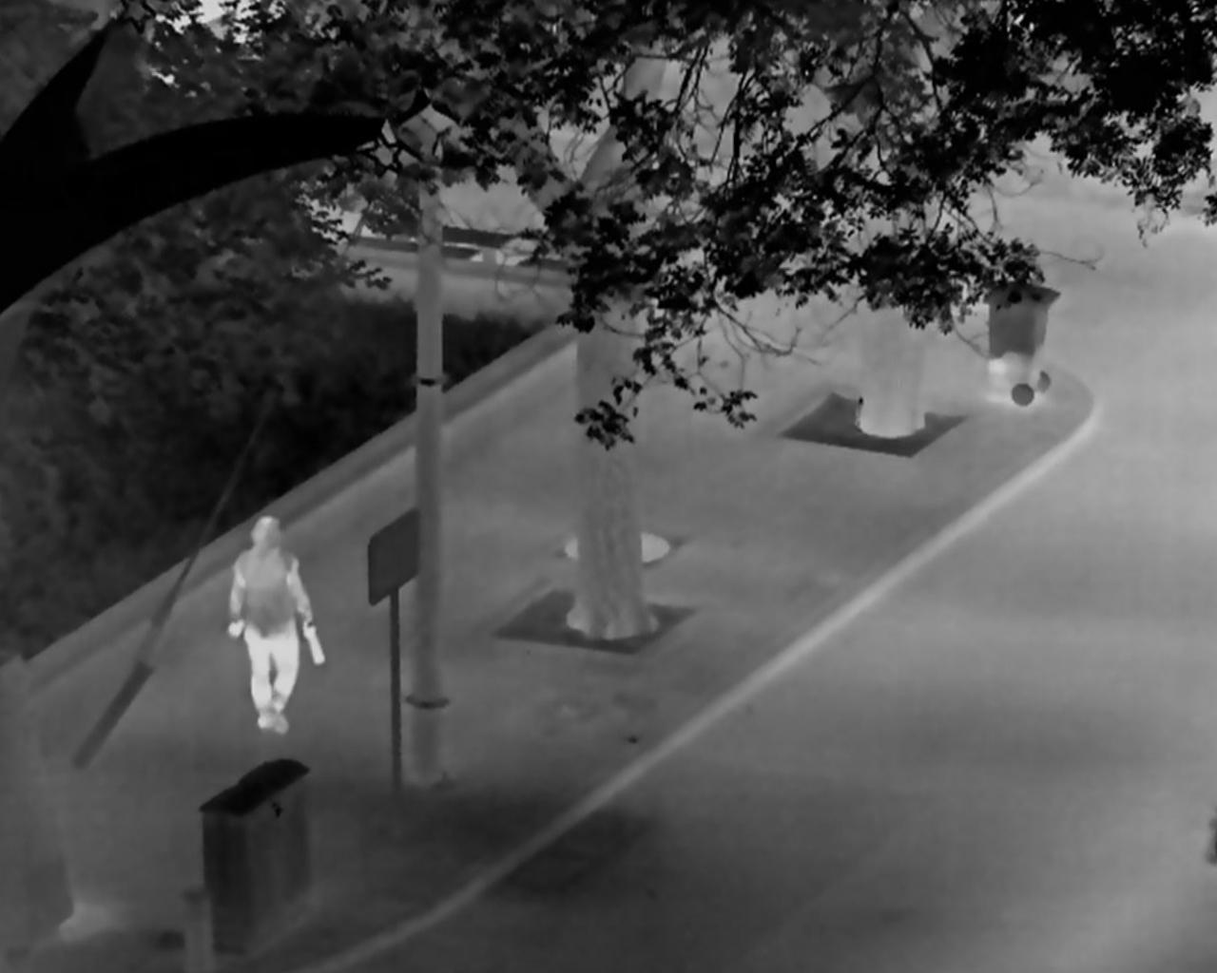person: (228, 514, 326, 735)
